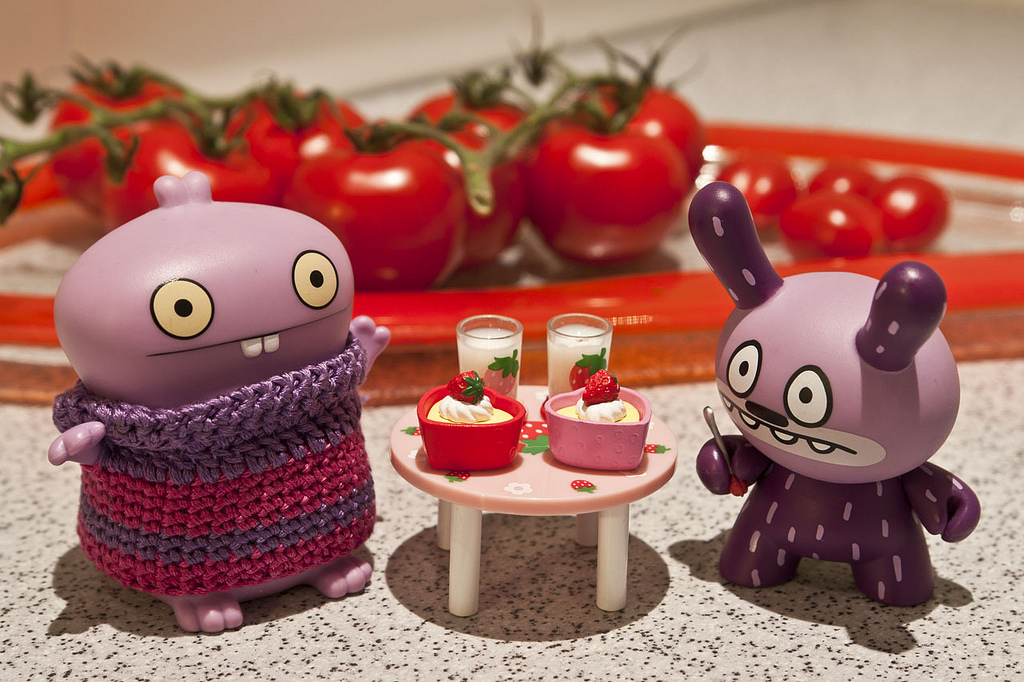glass of milk: (461, 314, 525, 401), (548, 308, 609, 389)
